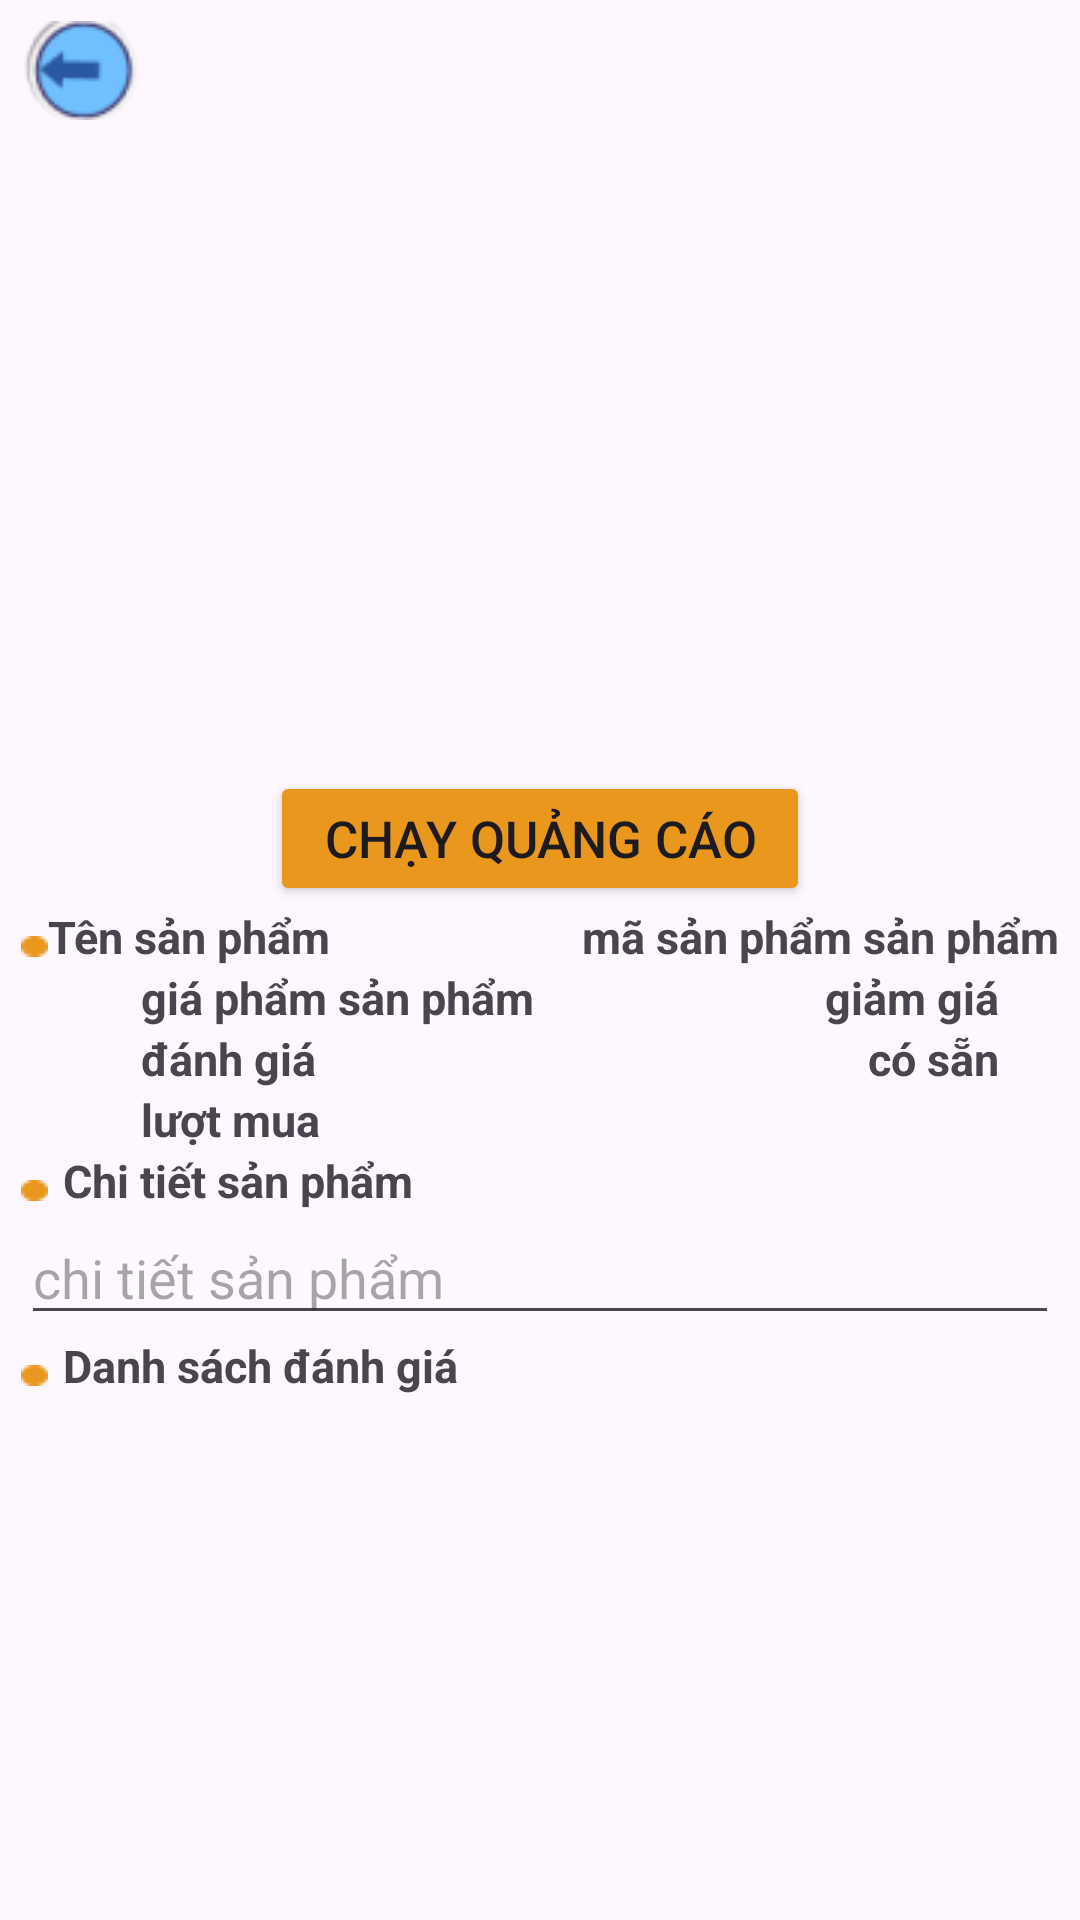

Locate icon controls on the screen. Image size 1080*1920, boxes as (x1, y1, x2, y2).
thoat: (26, 21, 134, 120)
